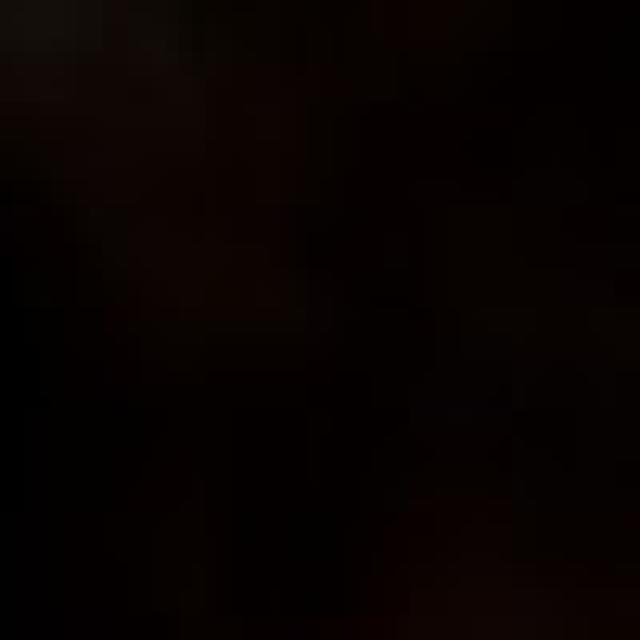no_fire: (23, 53, 634, 640)
